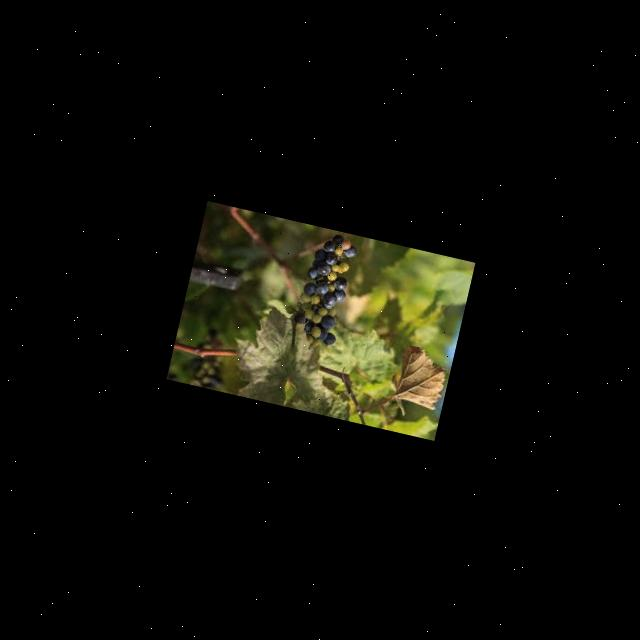grape: (286, 228, 359, 354)
